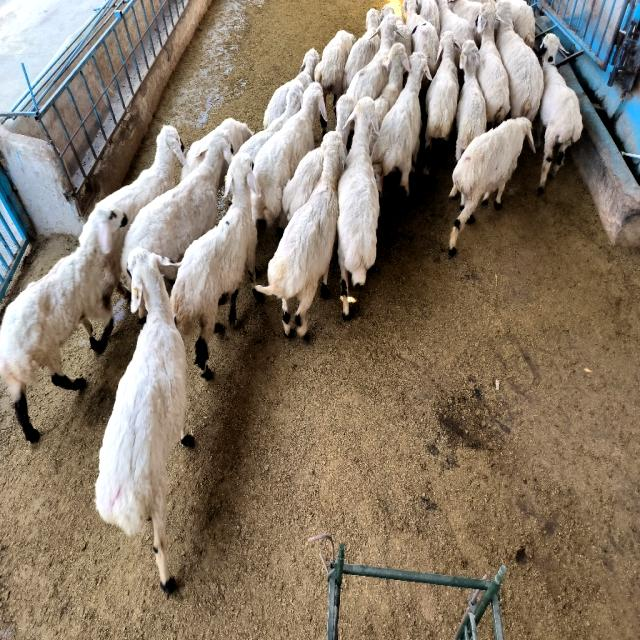sheep: (96, 248, 186, 586), (0, 207, 126, 442), (171, 152, 259, 378), (255, 132, 345, 337), (98, 125, 185, 308), (121, 132, 231, 270), (449, 117, 535, 254), (251, 83, 326, 225), (371, 52, 431, 198), (338, 97, 379, 296), (336, 17, 395, 143), (539, 33, 582, 191), (495, 0, 542, 121), (422, 32, 459, 181), (238, 82, 304, 162), (264, 48, 320, 128), (181, 118, 254, 179), (476, 3, 510, 128), (456, 42, 486, 161), (314, 30, 355, 108), (342, 8, 380, 92), (282, 147, 324, 220), (375, 42, 409, 128), (404, 0, 439, 74), (437, 0, 474, 46), (380, 5, 410, 56), (448, 0, 481, 46), (509, 0, 535, 48), (418, 0, 440, 36), (371, 133, 378, 152)
